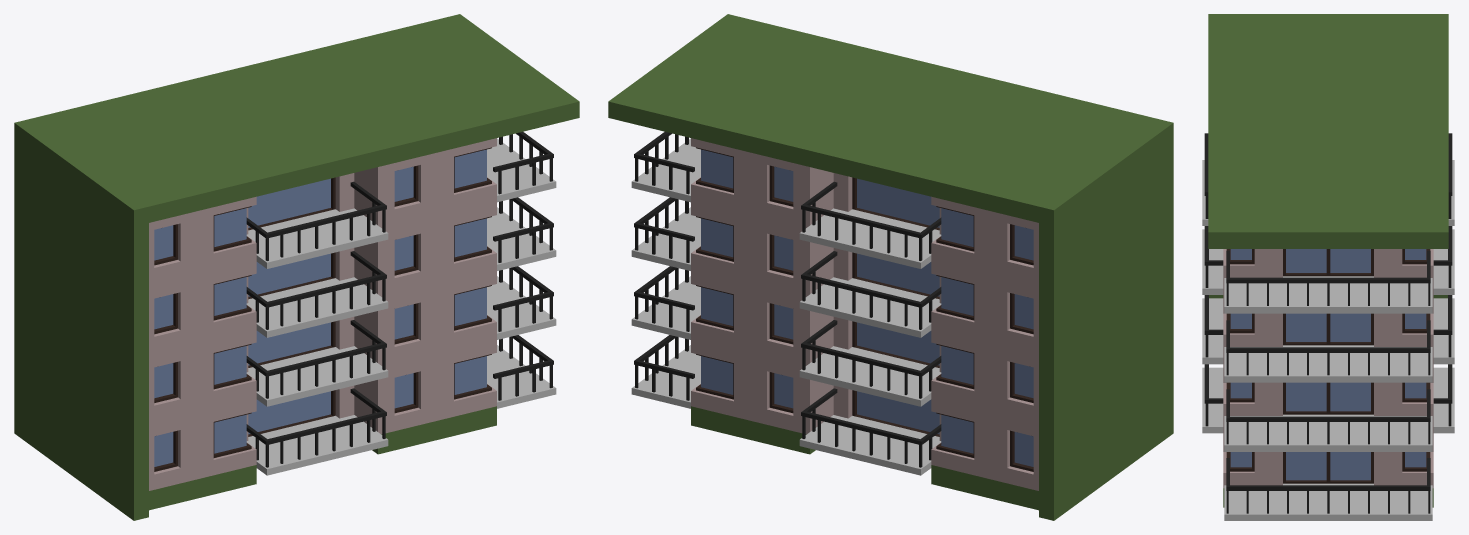
The model's file is ApartmentBuilding_07.fbx.
The picture shows the model from 3 angles, left to right: view 1: azimuth 30°, elevation 25°; view 2: azimuth 150°, elevation 25°; view 3: azimuth 270°, elevation 25°; orthographic projection.
Visible parts, largest first — view 1: ApartmentBuilding_07; view 2: ApartmentBuilding_07; view 3: ApartmentBuilding_07.
Boxes of the visible parts, x1=… form: ApartmentBuilding_07: x1=14, y1=14, x2=579, y2=520; ApartmentBuilding_07: x1=608, y1=14, x2=1173, y2=520; ApartmentBuilding_07: x1=1202, y1=14, x2=1454, y2=520.
Bounding box in the file's own units: 20.11 × 13.4 × 9.81.
